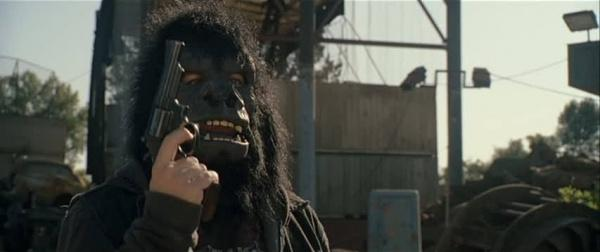Gun: (141, 37, 200, 162)
